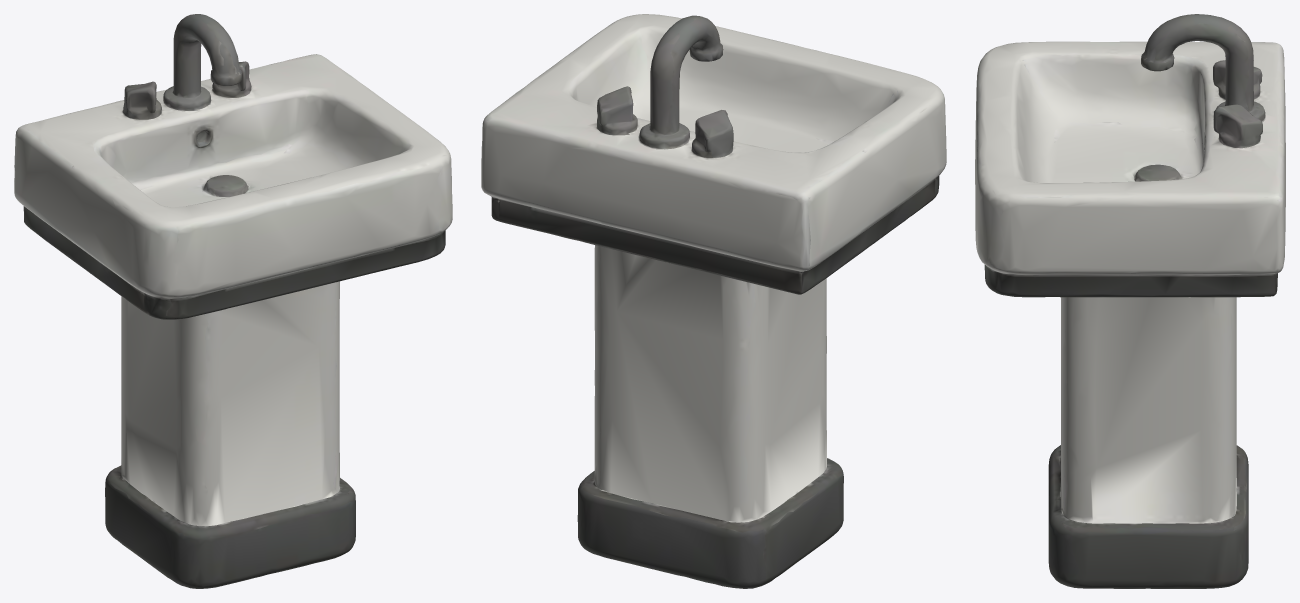
The model's file is sink.glb.
3 views of the same model, side by side, from view 1: azimuth 30°, elevation 25°; view 2: azimuth 150°, elevation 25°; view 3: azimuth 270°, elevation 25° (orthographic). The views are drawn at different scales.
Parts seen in each view (by area): view 1: geometry_0; view 2: geometry_0; view 3: geometry_0.
Part boxes in pixels (x1,y1,x2,y2): geometry_0: (14,14,452,588); geometry_0: (481,14,946,588); geometry_0: (975,14,1285,588).
Bounding box in the file's own units: 0.6499 × 1 × 0.533.
1 material, 1 textured.
